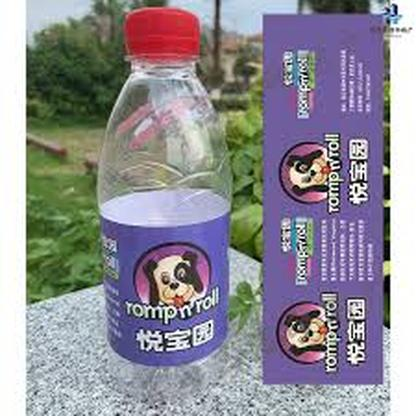plastic bottle: (97, 6, 226, 396)
